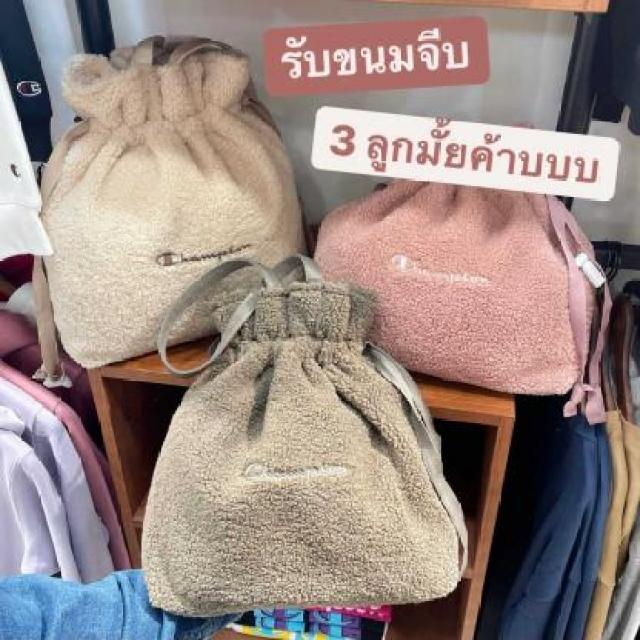Bag: (124, 244, 507, 640), (19, 18, 336, 359), (284, 129, 640, 423)
